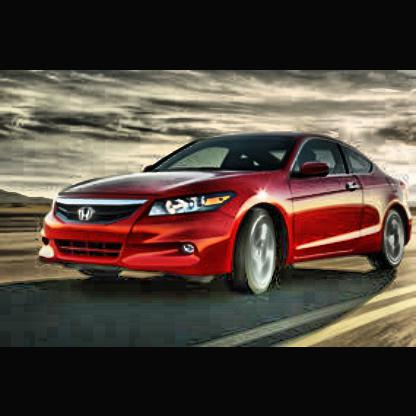Honda Accord Coupe 2012: (40, 135, 415, 295)
